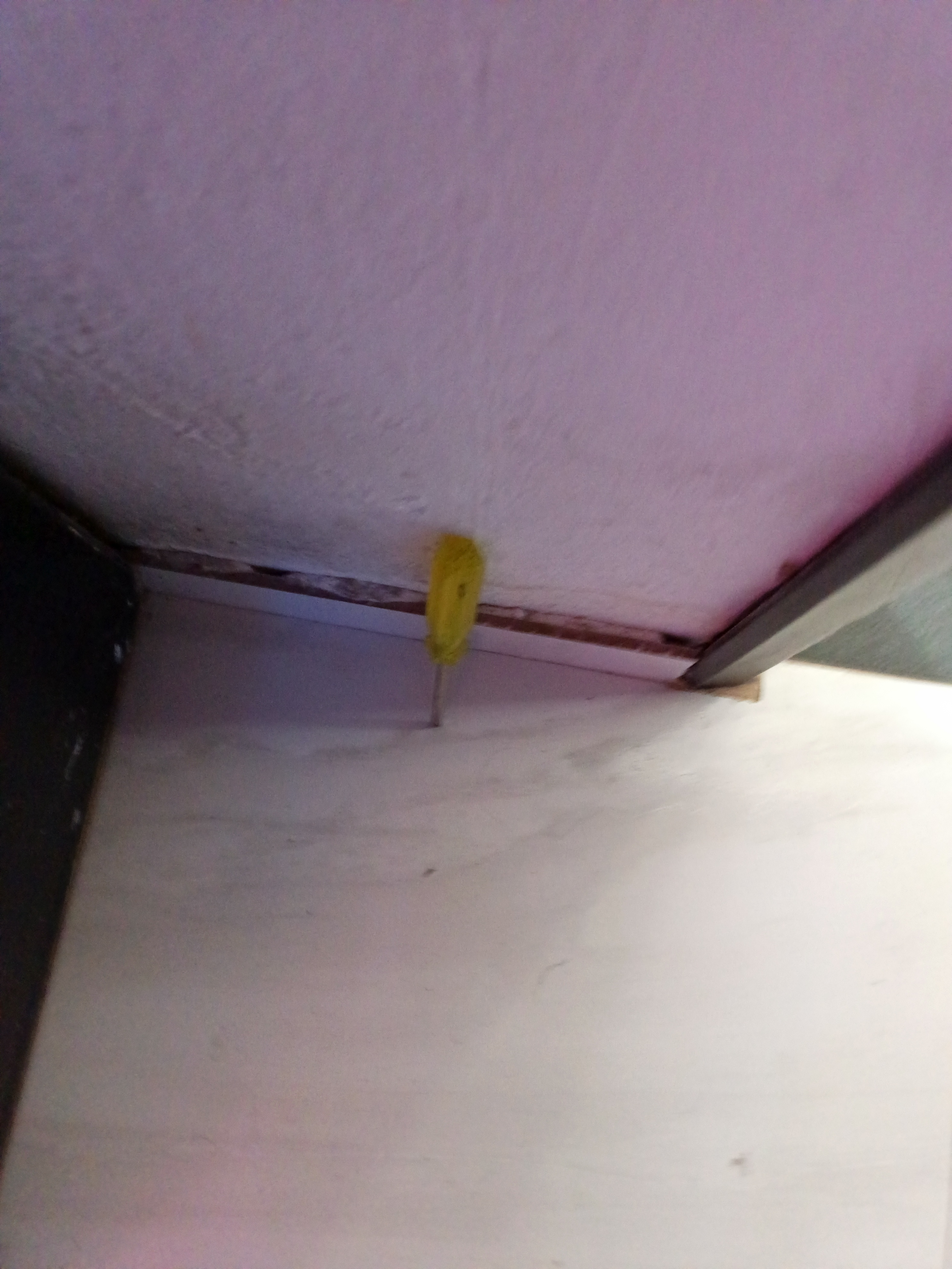Destornillador: (425, 532, 486, 727)
